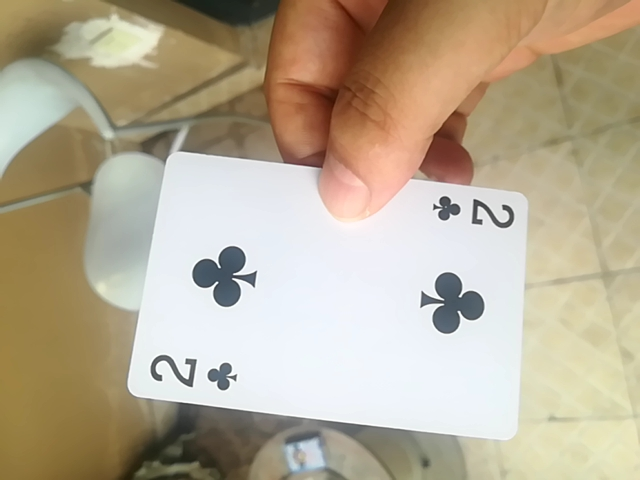mh 2: (125, 148, 529, 442)
